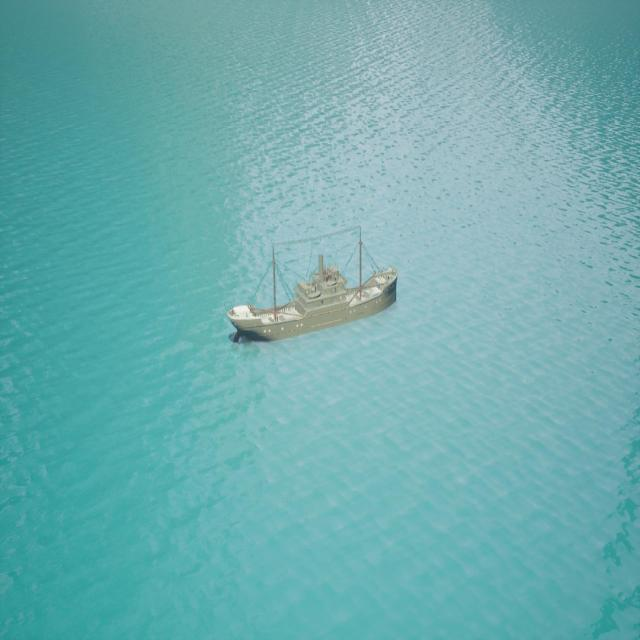fishing ship: (230, 228, 398, 347)
